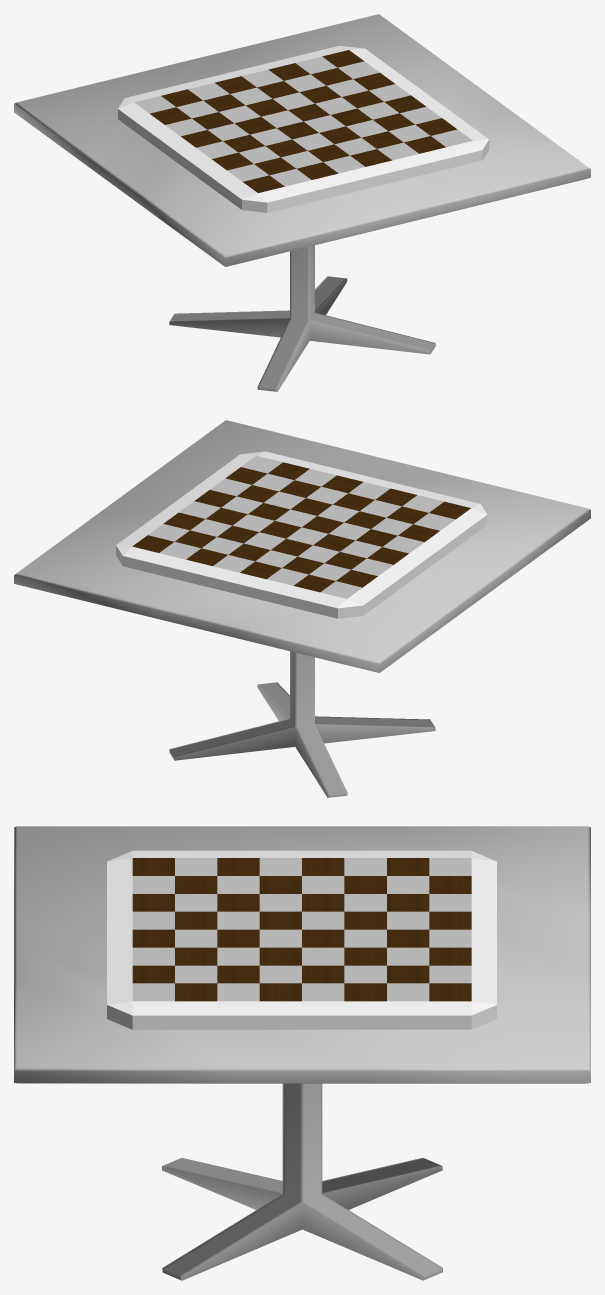
File: Pöytä.gltf
3 views of the same model, one above another, from view 1: azimuth 30°, elevation 25°; view 2: azimuth 150°, elevation 25°; view 3: azimuth 270°, elevation 25° (orthographic). The views are drawn at different scales.
Parts seen in each view (by area): view 1: Pöytä, Shakkilauta; view 2: Pöytä, Shakkilauta; view 3: Pöytä, Shakkilauta.
Boxes of the visible parts, <box> form: Pöytä: <box>14,14,590,391</box>; Shakkilauta: <box>118,45,489,212</box>; Pöytä: <box>14,420,590,797</box>; Shakkilauta: <box>116,451,487,618</box>; Pöytä: <box>14,826,590,1280</box>; Shakkilauta: <box>107,850,496,1029</box>.
Size of the model in its own units: 0.7542 by 0.4215 by 0.7542.
